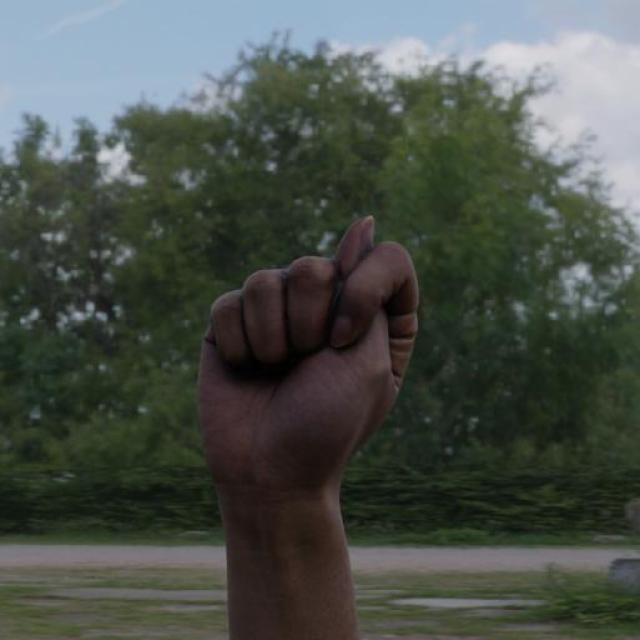T: (189, 213, 424, 494)
